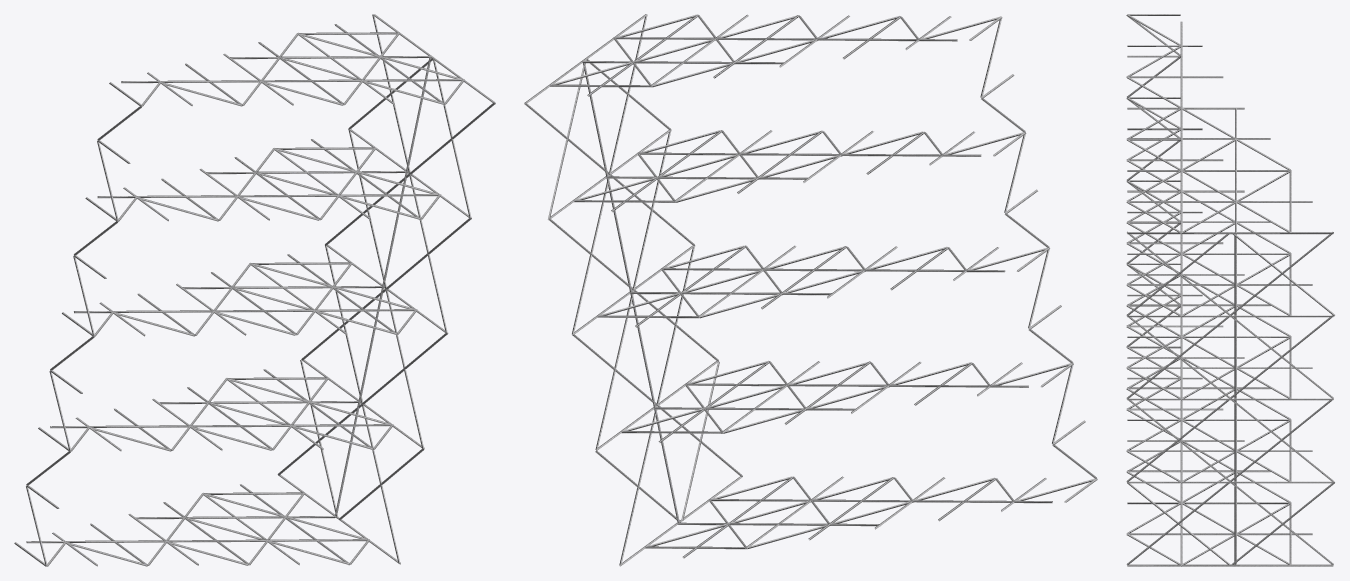
3 views of the same model, side by side, from view 1: azimuth 30°, elevation 25°; view 2: azimuth 150°, elevation 25°; view 3: azimuth 270°, elevation 25° (orthographic). The views are drawn at different scales.
Parts seen in each view (by area): view 1: _0TRIBUENE_02_004_SUB2_Scene.518; view 2: _0TRIBUENE_02_004_SUB2_Scene.518; view 3: _0TRIBUENE_02_004_SUB2_Scene.518.
Part boxes in pixels (<box>): _0TRIBUENE_02_004_SUB2_Scene.518: <box>14,14,495,566</box>; _0TRIBUENE_02_004_SUB2_Scene.518: <box>524,14,1097,566</box>; _0TRIBUENE_02_004_SUB2_Scene.518: <box>1126,14,1335,566</box>.
Size of the model in its own units: 3371 by 3738 by 1591.
